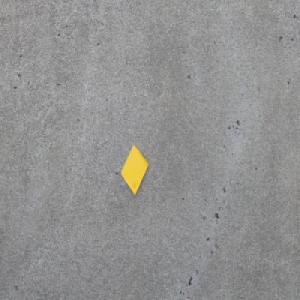PlasticPart: (120, 143, 148, 195)
